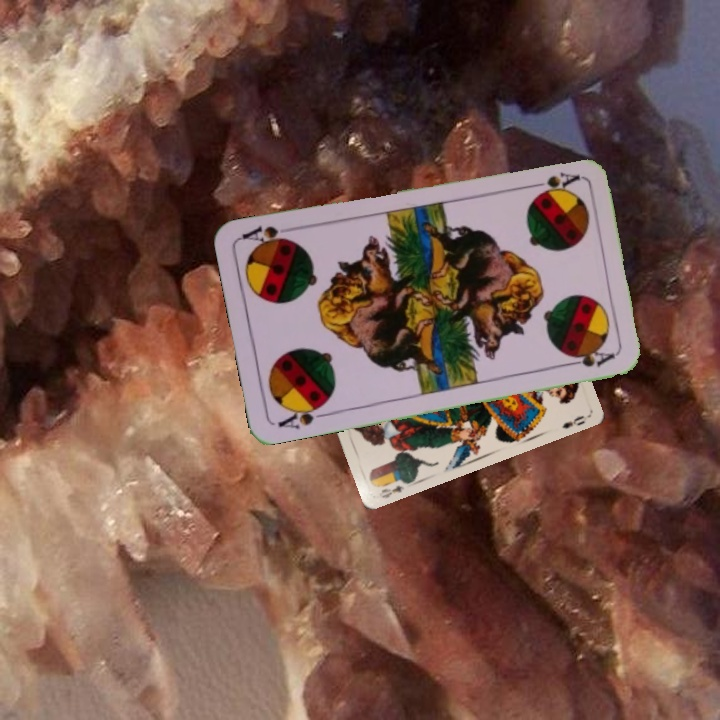EO: (375, 481, 407, 501)
SA: (274, 398, 332, 431), (523, 168, 582, 196)
